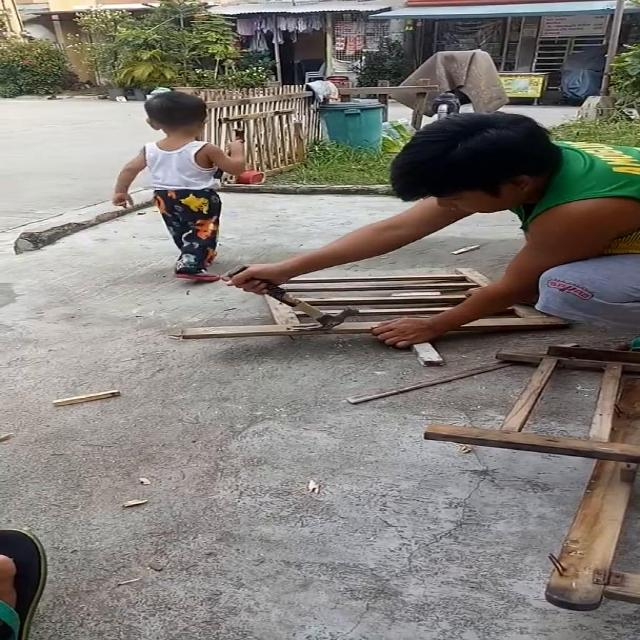hammer: (225, 265, 360, 332), (212, 128, 246, 180)
